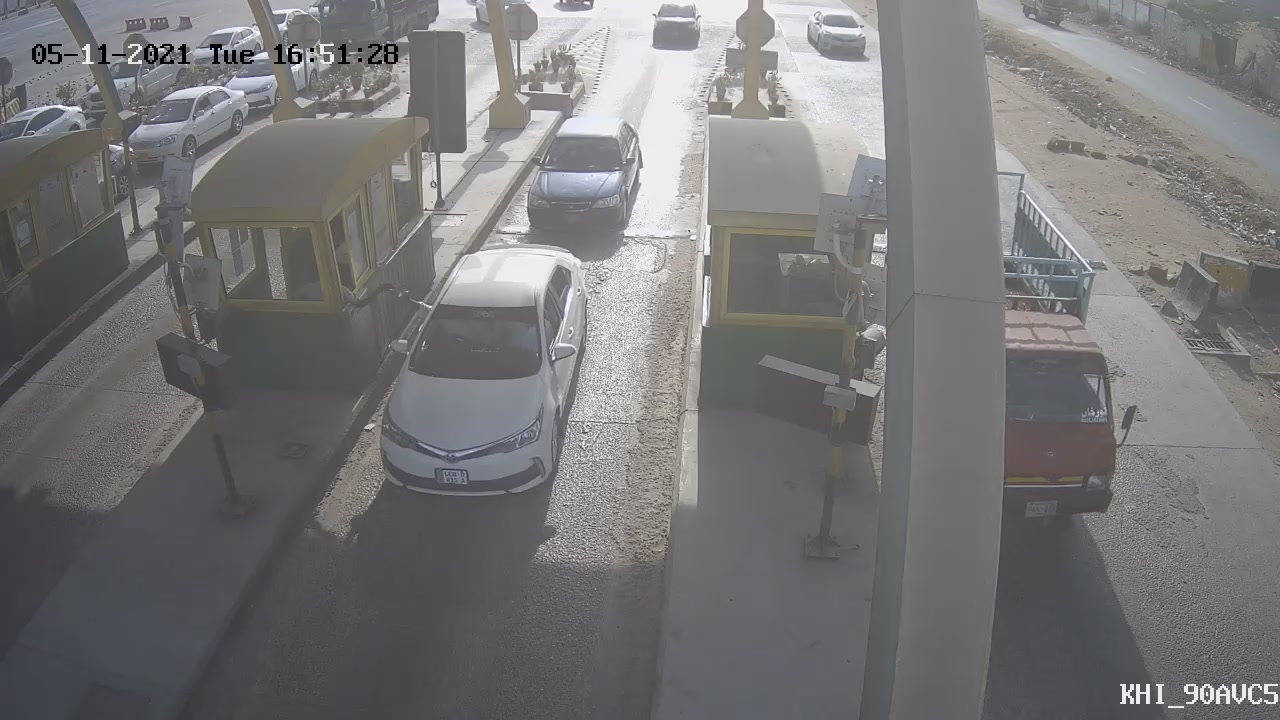F1: (359, 225, 612, 530), (511, 99, 657, 248)
